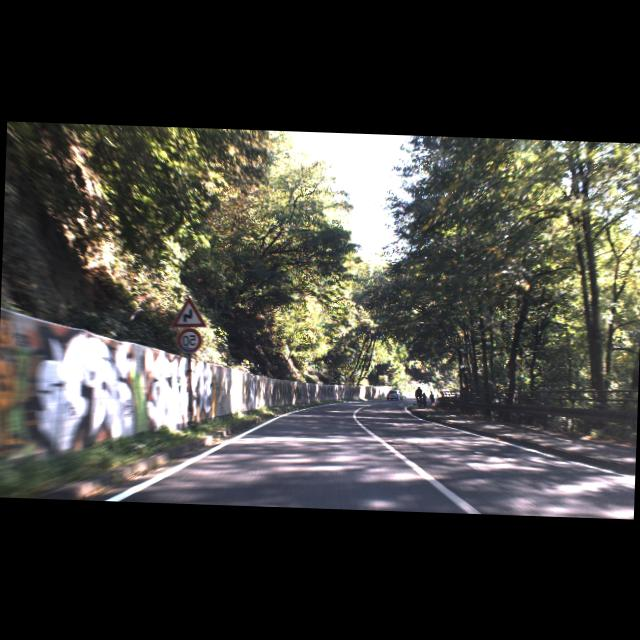danger: (172, 294, 206, 328)
prohibitory: (176, 327, 202, 352)
